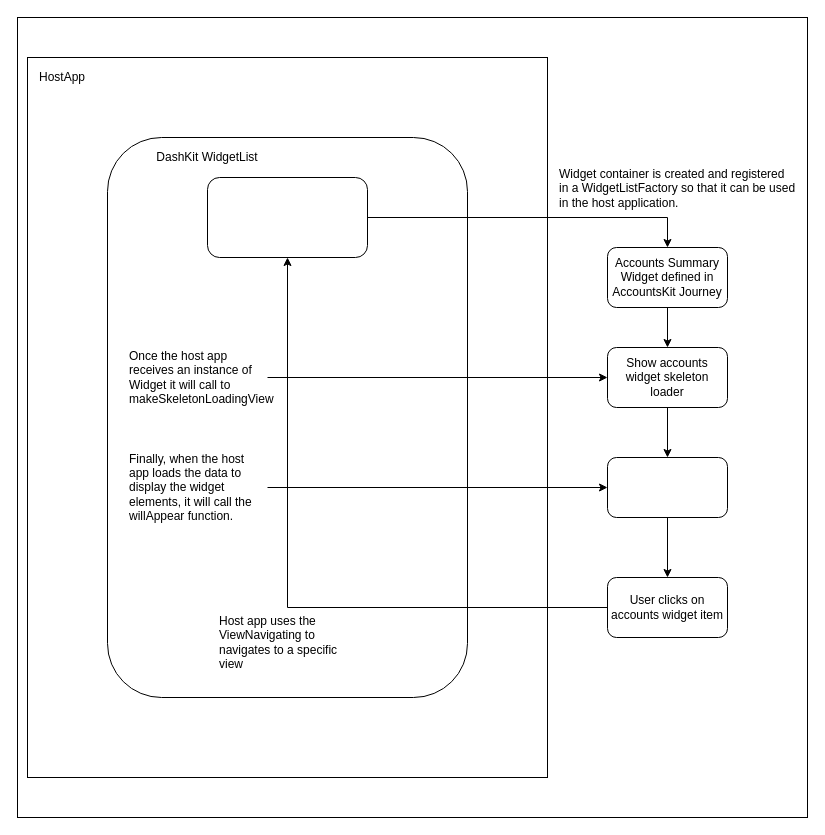
Image size: 825x835. Some labels were removed from this diagram. Here are the shapes that lost their labels. From the top down, the centre of each, then its label:
At [287,217]: "Account Summary Widget".
At [667,487]: "Display accounts widget items".
